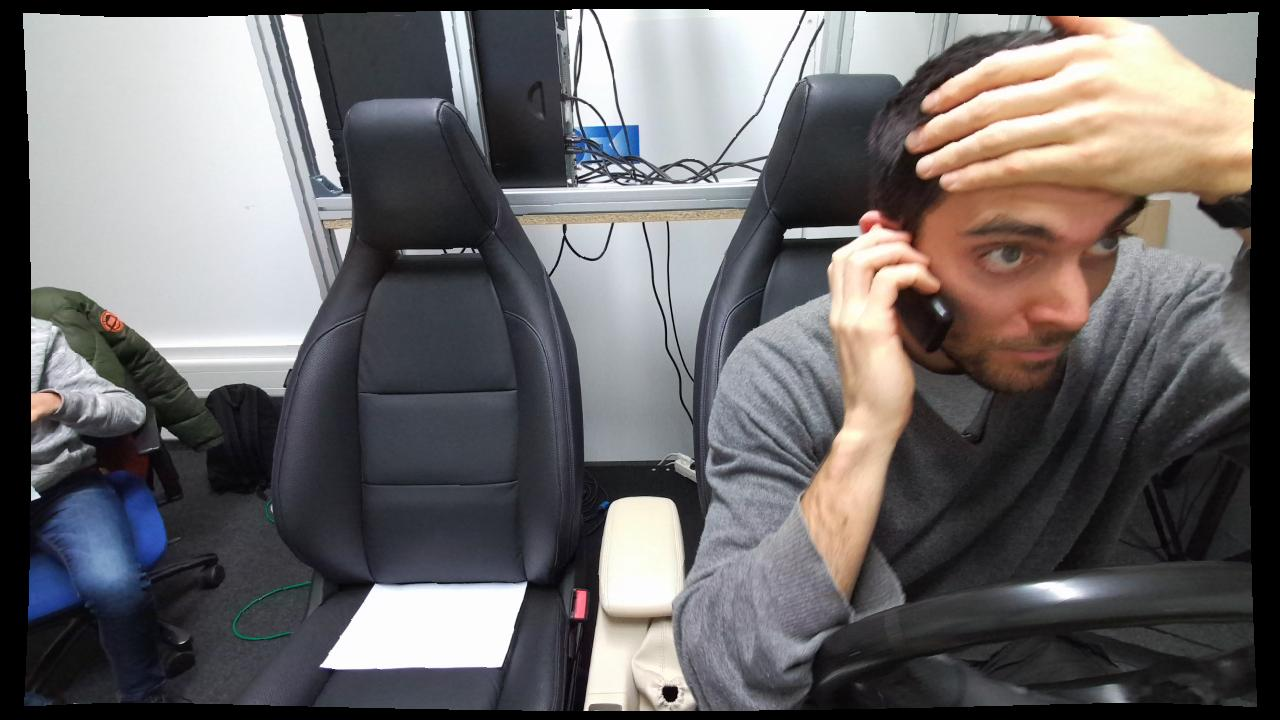Distracted: (679, 22, 1256, 713)
PhoneUse: (884, 255, 962, 372)
